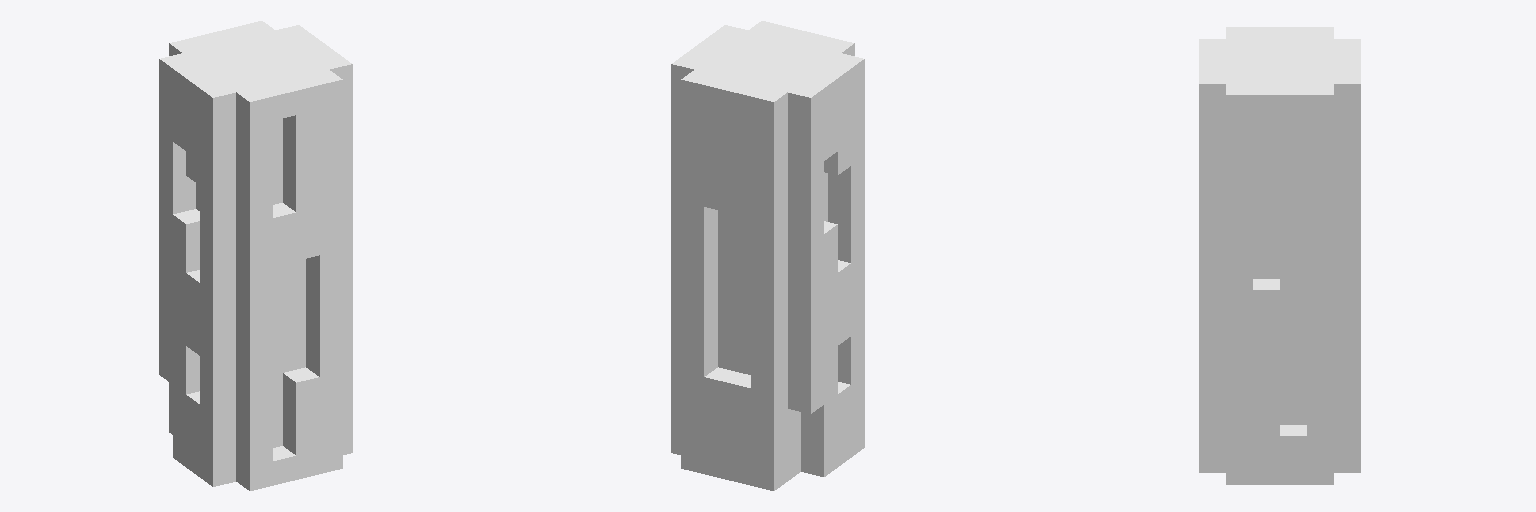
File: MiddleSegment_6x6.obj
The picture shows the model from 3 angles: view 1: azimuth 30°, elevation 25°; view 2: azimuth 150°, elevation 25°; view 3: azimuth 270°, elevation 25°; orthographic projection.
Visible parts, largest first — view 1: object 1; view 2: object 1; view 3: object 1.
Boxes of the visible parts, box(x1,y1,x2,y2) form: object 1: box(159, 21, 352, 490); object 1: box(671, 21, 864, 490); object 1: box(1199, 27, 1360, 484).
Bounding box in the file's own units: 0.6 × 1.6 × 0.6.